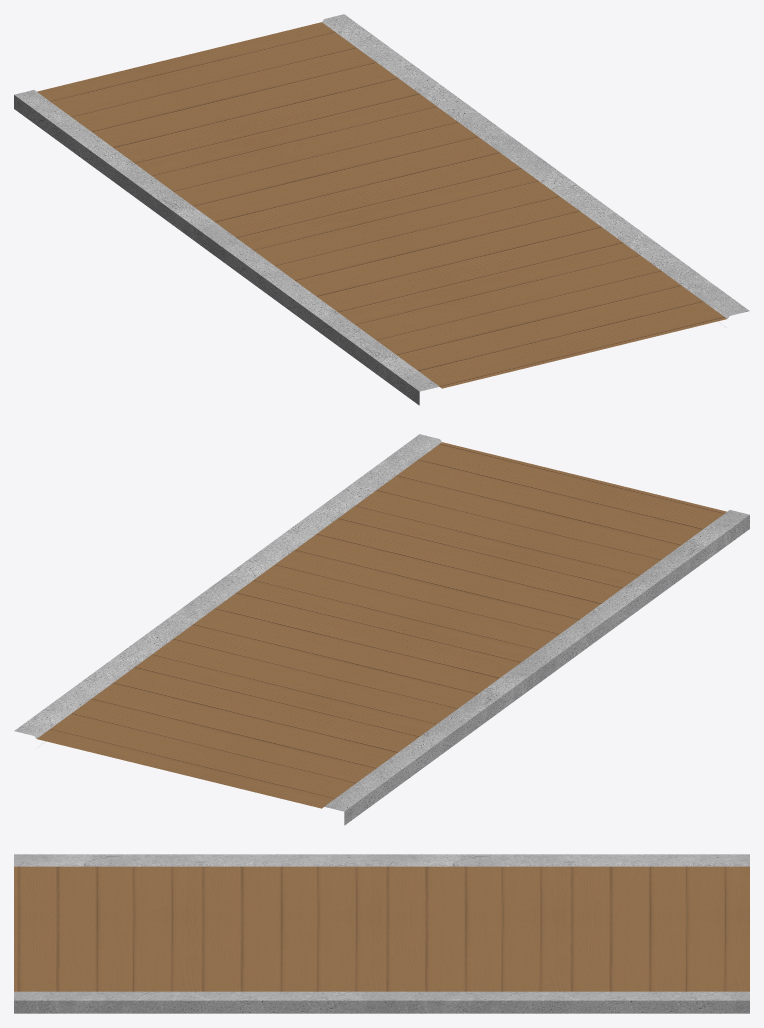
Rendered from Bridge01_MP.glb.
3 views of the same model, one above another, from view 1: azimuth 30°, elevation 25°; view 2: azimuth 150°, elevation 25°; view 3: azimuth 270°, elevation 25° (orthographic). The views are drawn at different scales.
Parts seen in each view (by area): view 1: Bridge; view 2: Bridge; view 3: Bridge.
Boxes of the visible parts, box(x1,y1,x2,y2) form: Bridge: box(14, 14, 749, 405); Bridge: box(14, 434, 749, 825); Bridge: box(14, 854, 749, 1013).
Size of the model in its own units: 11.07 by 0.4535 by 23.54.
Materials: 1 (1 with a texture image).
